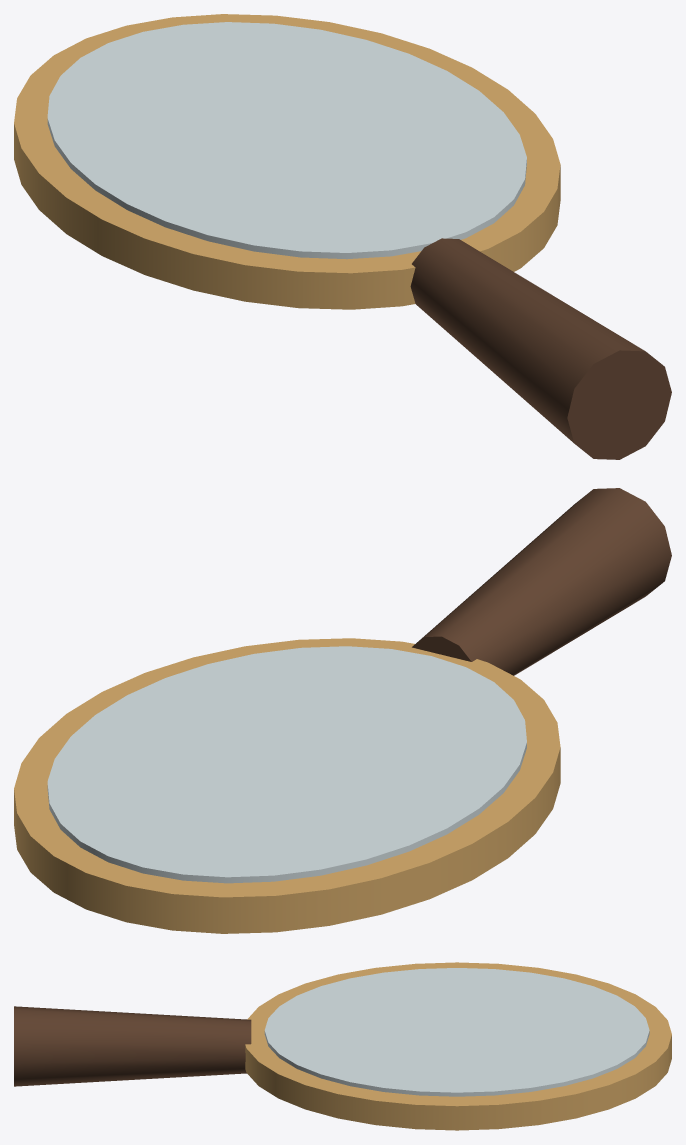
Rendered from mirror.glb.
The picture shows the model from 3 angles, top to bottom: view 1: azimuth 30°, elevation 25°; view 2: azimuth 150°, elevation 25°; view 3: azimuth 270°, elevation 25°; orthographic projection. The views are drawn at different scales.
Parts seen in each view (by area): view 1: prop_mirror; view 2: prop_mirror; view 3: prop_mirror.
Boxes of the visible parts, box(x1,y1,x2,y2) form: prop_mirror: box(14, 14, 671, 459); prop_mirror: box(14, 488, 671, 933); prop_mirror: box(14, 962, 671, 1130).
Bounding box in the file's own units: 0.076 × 0.018 × 0.147.
